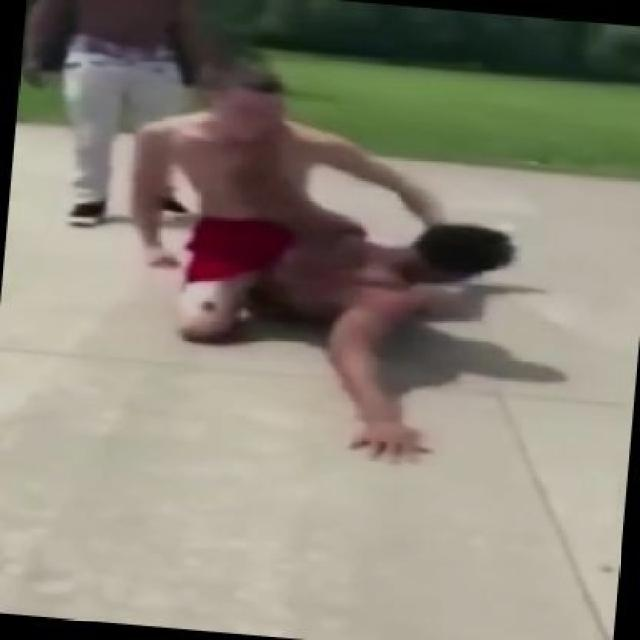fight: (106, 54, 511, 454)
non-fight: (23, 0, 208, 228)
